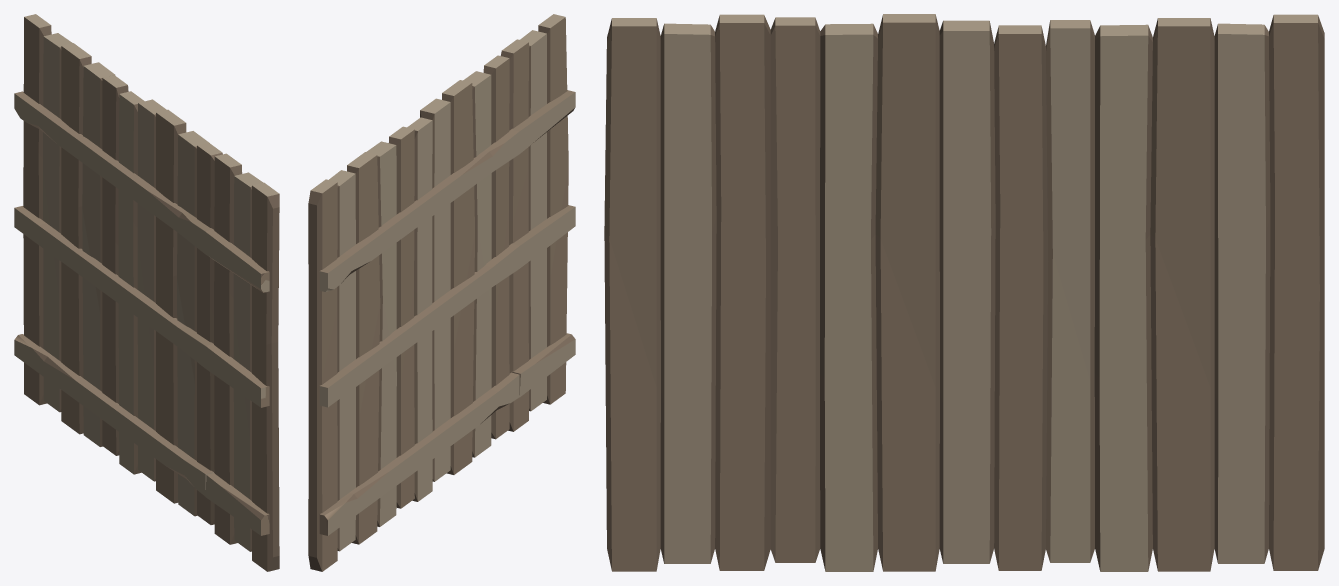
The model's file is Fence_14.gltf.
The picture shows the model from 3 angles, left to right: view 1: azimuth 30°, elevation 25°; view 2: azimuth 150°, elevation 25°; view 3: azimuth 270°, elevation 25°; orthographic projection. The views are drawn at different scales.
Parts seen in each view (by area): view 1: Fence_14; view 2: Fence_14; view 3: Fence_14.
Boxes of the visible parts, x1,y1,x2,y2 form: Fence_14: (14, 14, 279, 571); Fence_14: (308, 14, 575, 571); Fence_14: (604, 14, 1324, 571).
Size of the model in its own units: 0.0336 by 0.5073 by 0.603.
Materials: 1 (1 with a texture image).
